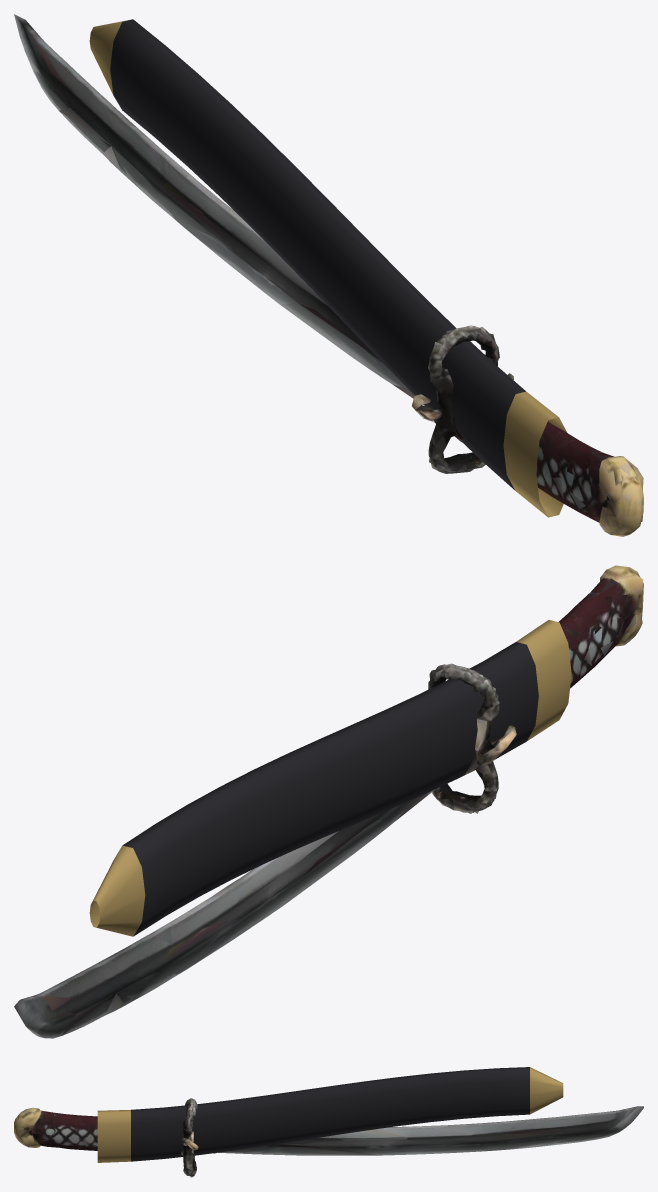
File: katana.glb
3 views of the same model, one above another, from view 1: azimuth 30°, elevation 25°; view 2: azimuth 150°, elevation 25°; view 3: azimuth 270°, elevation 25° (orthographic). The views are drawn at different scales.
Visible parts, largest first — view 1: sheath, katana; view 2: sheath, katana; view 3: sheath, katana.
Boxes of the visible parts, x1,y1,x2,y2 form: sheath: (89, 19, 567, 517); katana: (14, 14, 643, 536); sheath: (89, 620, 571, 936); katana: (14, 565, 643, 1038); sheath: (97, 1067, 563, 1162); katana: (14, 1098, 643, 1177).
Bounding box in the file's own units: 0.0974 × 0.1934 × 1.04.
5 materials, 3 textured.
